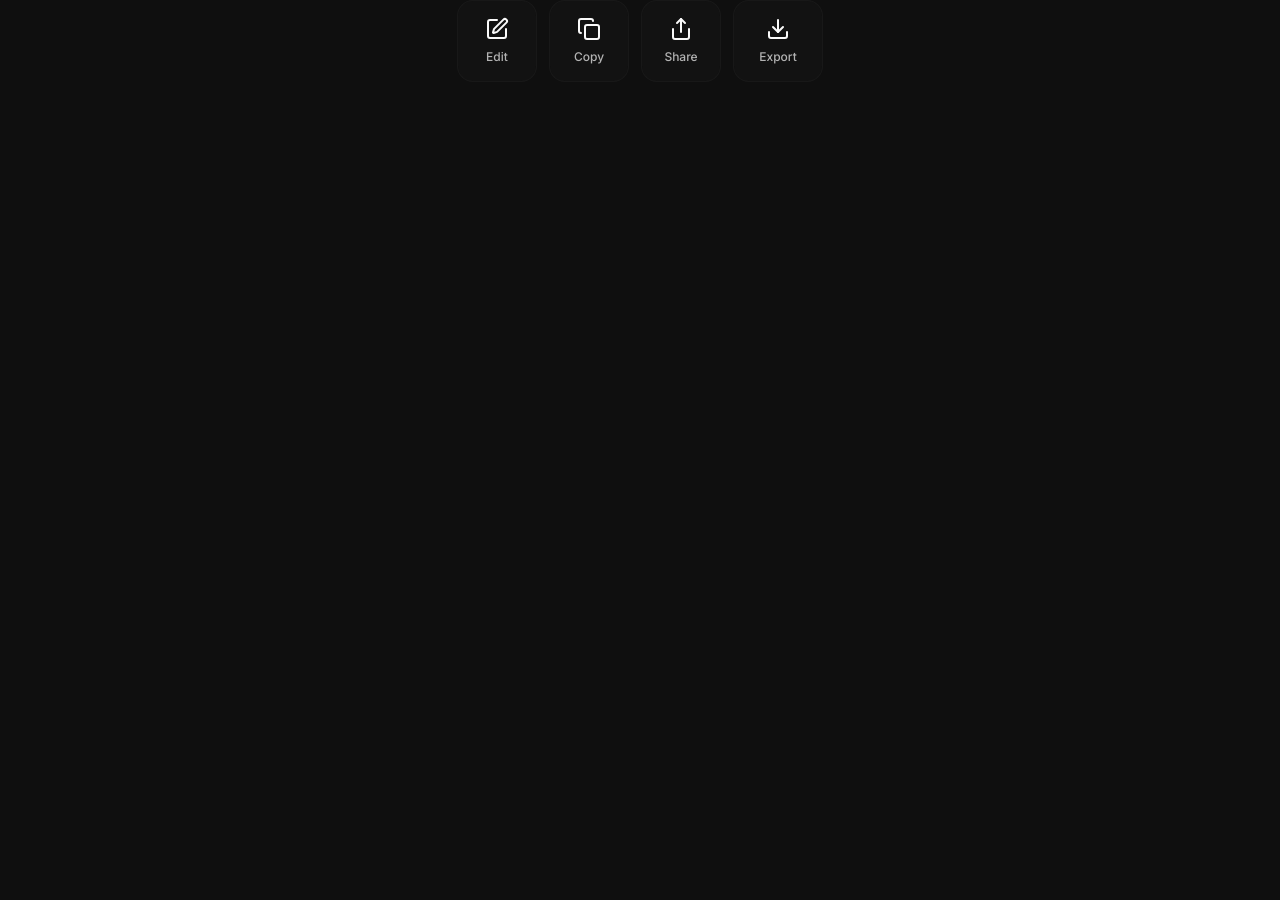
Scenario: PublishActions › Edit Functionality - Logged Out User › should show edit popup when edit button clicked and user not logged in
Click the button with test id "edit-button".
click(497, 41)  # box [457, 0, 537, 82]
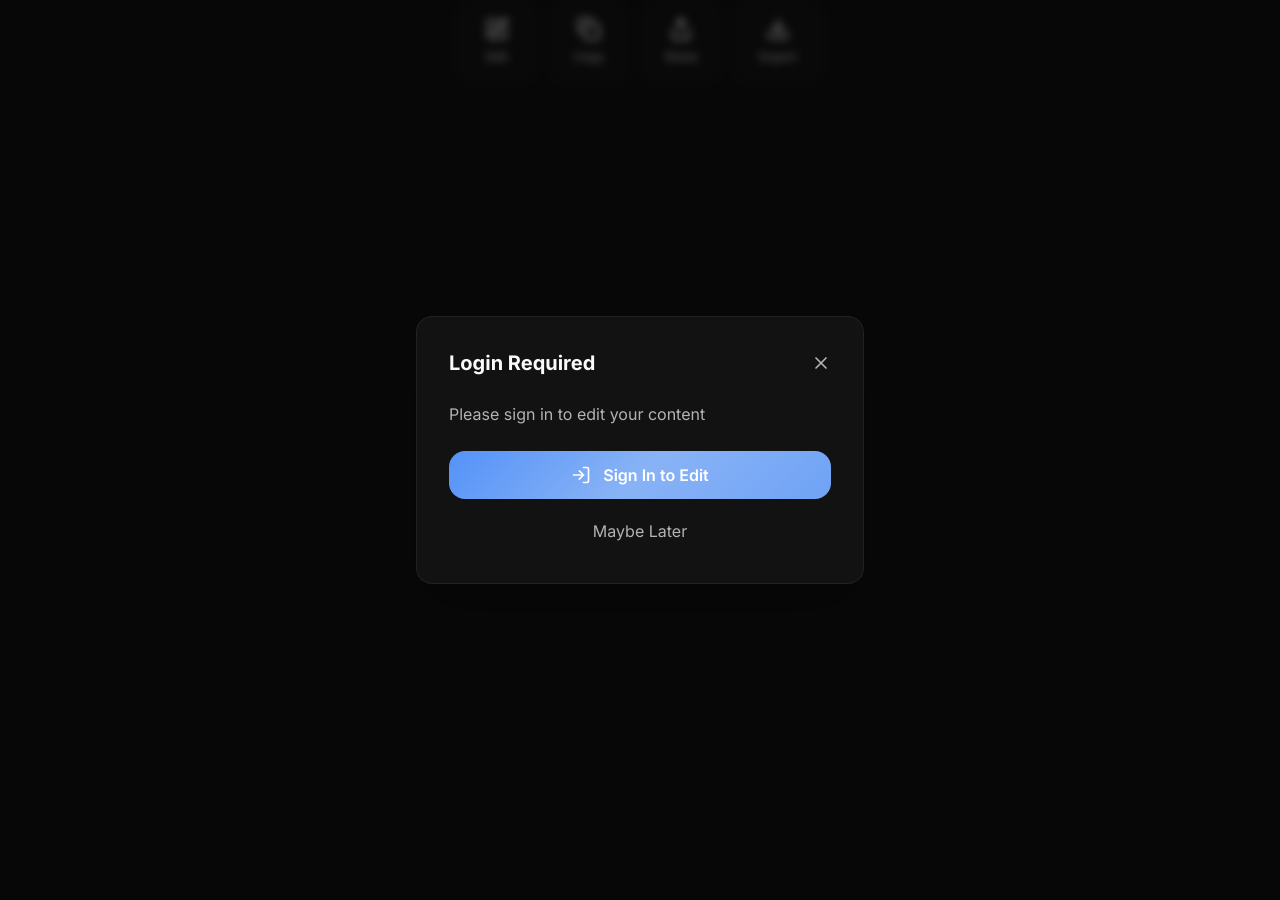
Expected: the heading "Login Required" is shown, [449, 349, 595, 377]
Expected: the text "Please sign in to edit your content" is shown, [449, 404, 705, 424]
Expected: the button with test id "sign-in-button" is shown, [449, 451, 831, 499]
